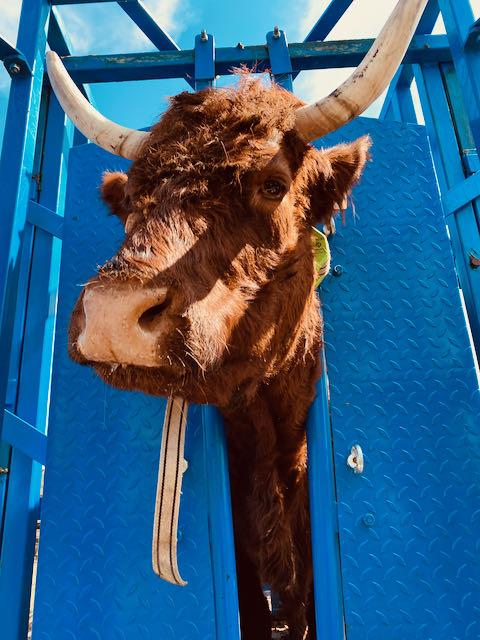muzzles: (61, 282, 191, 375)
